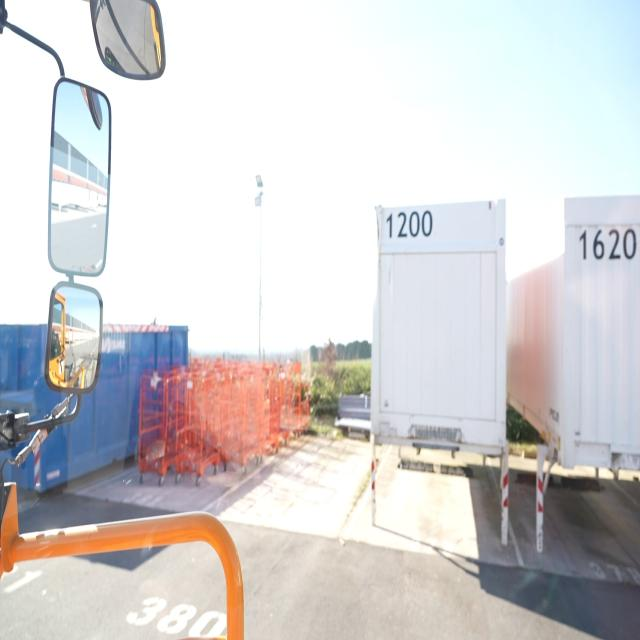Code: (578, 224, 637, 260), (383, 207, 434, 240)
